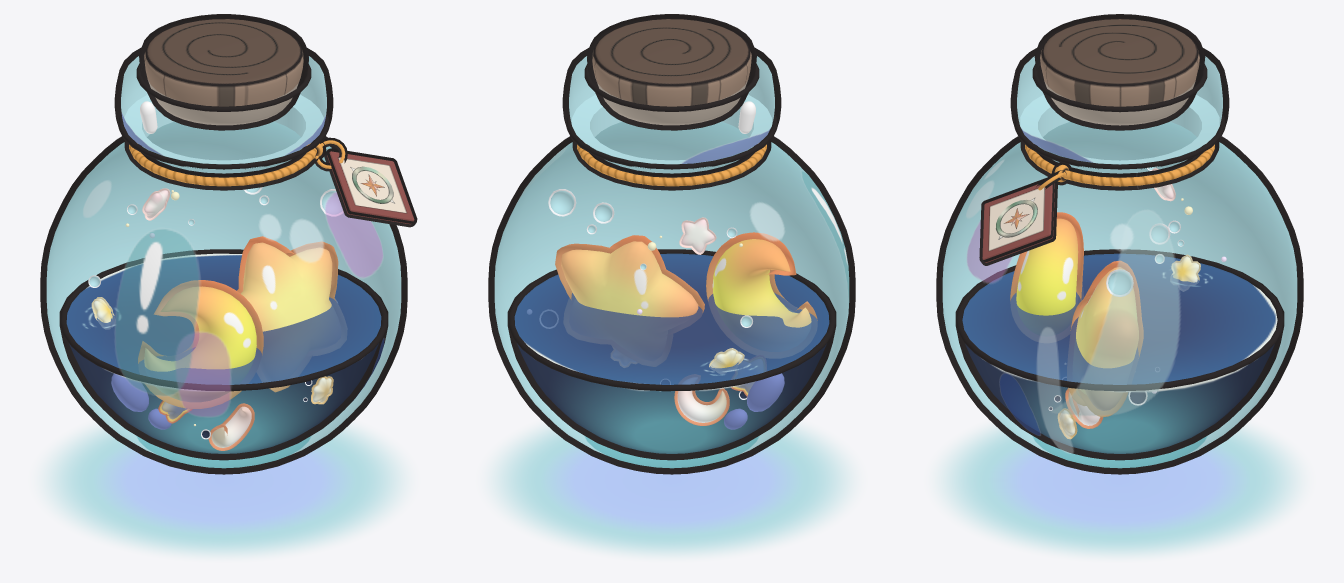
File: star_potion.glb
The picture shows the model from 3 angles, left to right: view 1: azimuth 30°, elevation 25°; view 2: azimuth 150°, elevation 25°; view 3: azimuth 270°, elevation 25°; orthographic projection.
Visible parts, largest first — view 1: pSphere1, ground, light3, pCylinder2, pSphere2, pCylinder1, star, OL, moon, OL_Tour, pCube1, OL02 (+10 smaller); view 2: pSphere1, ground, pSphere2, pCylinder2, pCylinder1, star, OL, moon, OL_Tour, OL02, moon_OL, star_OL (+11 smaller); view 3: pSphere1, ground, pSphere2, pCylinder2, light3, pCylinder1, OL, star, moon, OL_Tour, pCube1, OL02 (+12 smaller).
Boxes of the visible parts, x1,y1,x2,y2 form: pSphere1: (46, 56, 401, 468); ground: (31, 420, 417, 561); light3: (83, 180, 383, 417); pCylinder2: (66, 253, 381, 384); pSphere2: (67, 255, 380, 453); pCylinder1: (144, 19, 303, 125); star: (240, 242, 340, 381); OL: (40, 47, 407, 474); moon: (144, 286, 256, 402); OL_Tour: (60, 249, 387, 391); pCube1: (327, 151, 414, 224); OL02: (59, 262, 388, 460); pSphere1: (494, 56, 849, 468); ground: (478, 420, 864, 561); pSphere2: (515, 255, 828, 453); pCylinder2: (514, 253, 829, 384); pCylinder1: (592, 19, 751, 125); star: (561, 241, 698, 360); OL: (488, 47, 855, 474); moon: (712, 239, 811, 351); OL_Tour: (508, 249, 835, 391); OL02: (507, 270, 836, 460); moon_OL: (706, 232, 817, 357); star_OL: (555, 235, 704, 366); pSphere1: (942, 56, 1297, 468); ground: (926, 420, 1312, 561); pSphere2: (963, 255, 1275, 453); pCylinder2: (962, 253, 1277, 384); light3: (966, 160, 1180, 416); pCylinder1: (1040, 19, 1199, 125); OL: (936, 48, 1303, 474); star: (1073, 267, 1138, 410); moon: (1016, 218, 1078, 334); OL_Tour: (956, 249, 1283, 391); pCube1: (982, 183, 1054, 262); OL02: (955, 250, 1284, 460).
Size of the model in its own units: 0.2 by 0.2295 by 0.2.
Materials: 2 (2 with a texture image).
